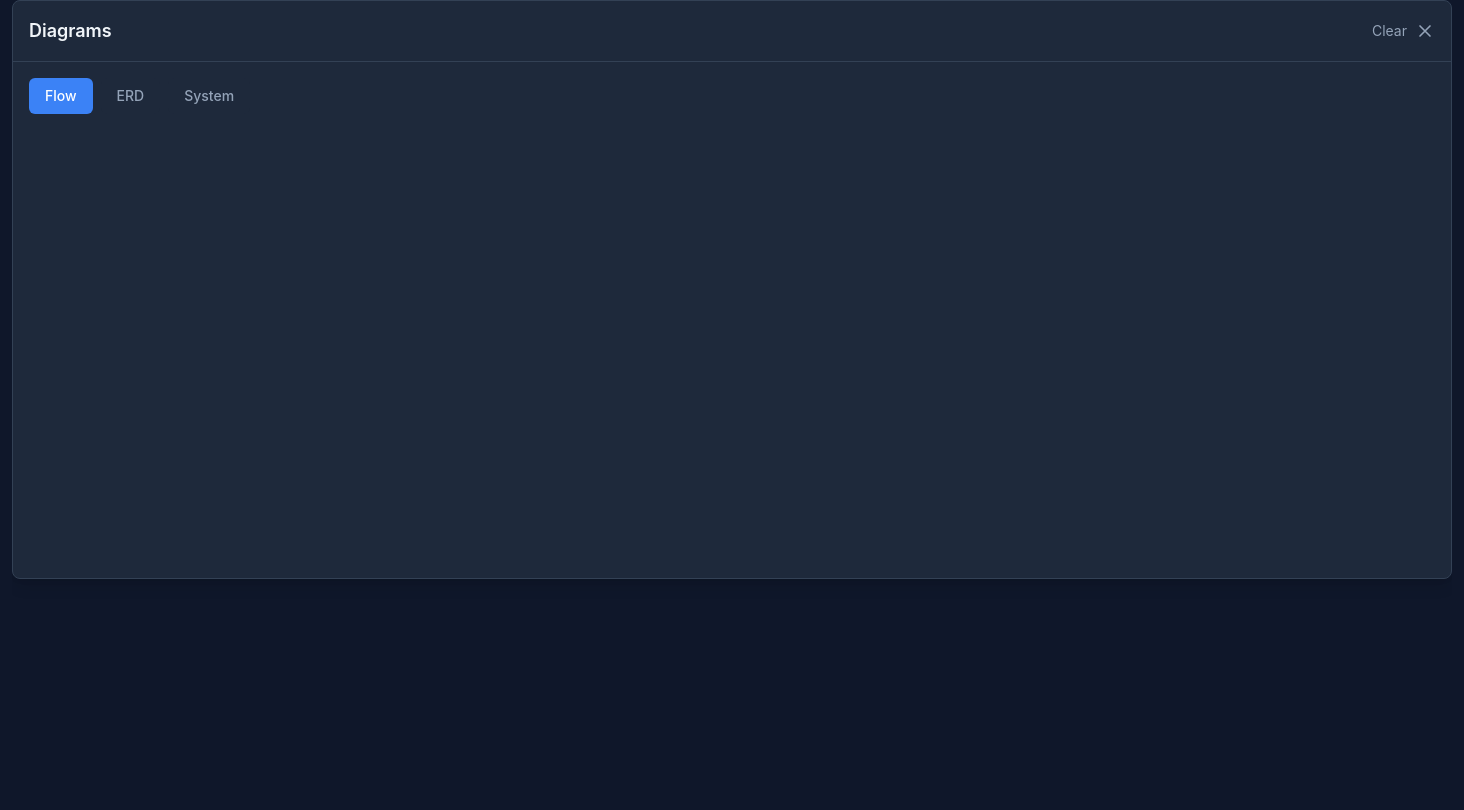
Scenario: DiagramPanel › should clear diagram when clear button is clicked
Click the button with aria-label "Clear current diagram".
click(1389, 31)  # box left=1372, top=21, right=1407, bottom=41
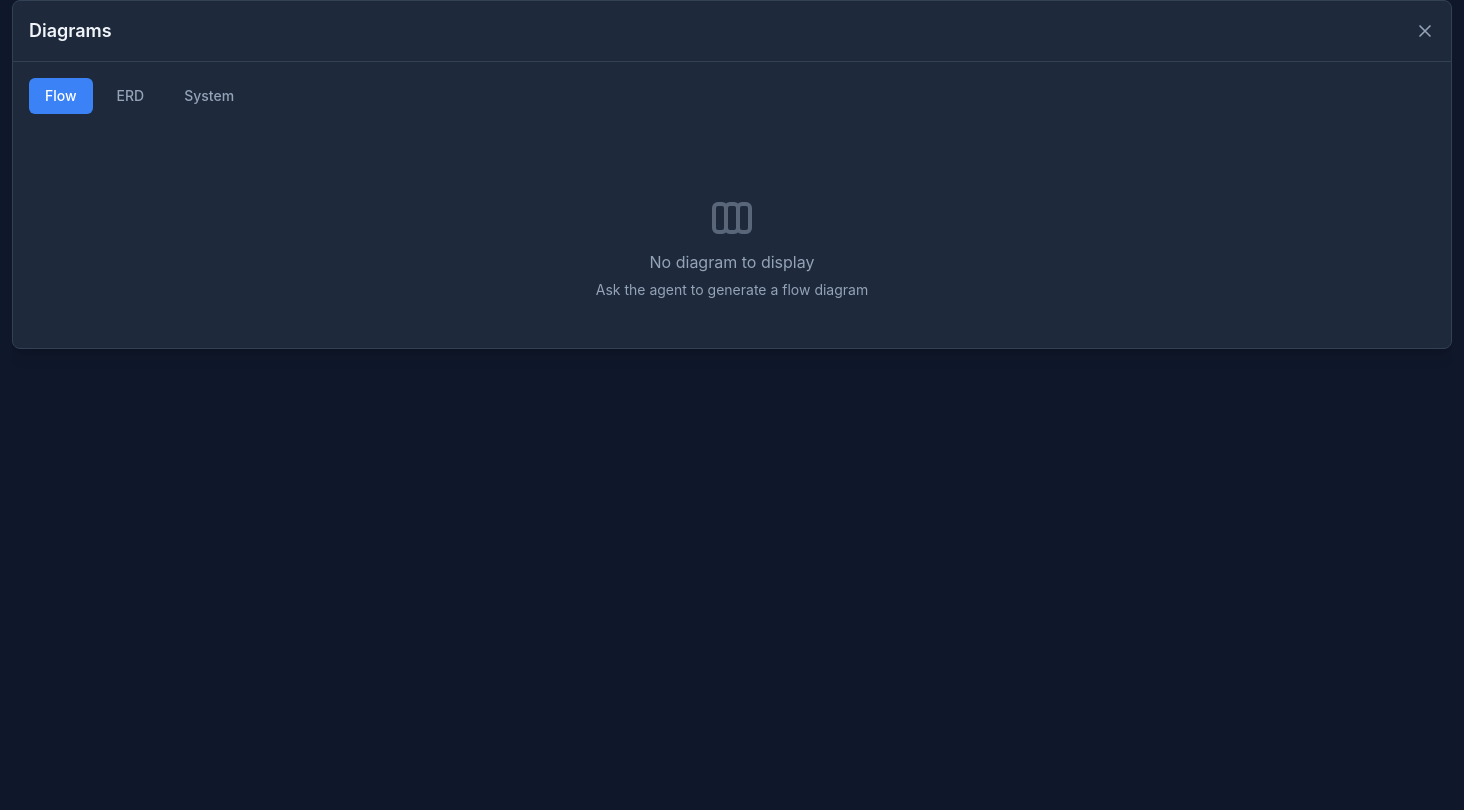
Expected: the text "No diagram to display" is shown, left=650, top=252, right=814, bottom=272
